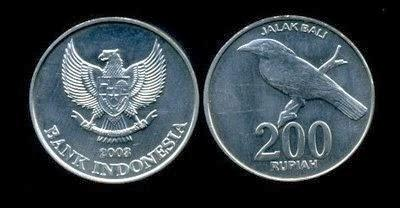coin_200_e2003: (200, 14, 377, 183), (28, 16, 199, 184)
